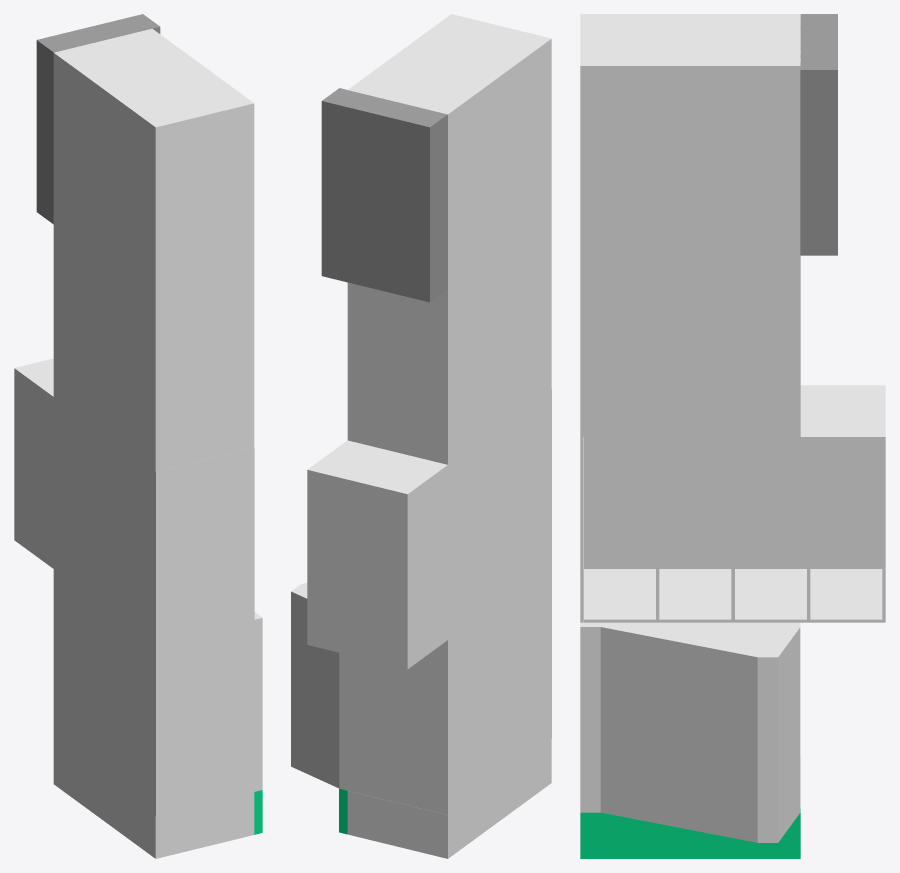
The picture shows the model from 3 angles, left to right: view 1: azimuth 30°, elevation 25°; view 2: azimuth 150°, elevation 25°; view 3: azimuth 270°, elevation 25°; orthographic projection. The views are drawn at different scales.
Visible parts, largest first — view 1: ROOT_link (×8); view 2: ROOT_link (×8); view 3: ROOT_link (×12).
Part boxes in pixels (x1,y1,x2,y2): ROOT_link (×8): (15, 14, 262, 858); ROOT_link (×8): (291, 14, 551, 858); ROOT_link (×12): (580, 14, 885, 858).
Bounding box in the file's own units: 0.6 × 2.55 × 0.895.
